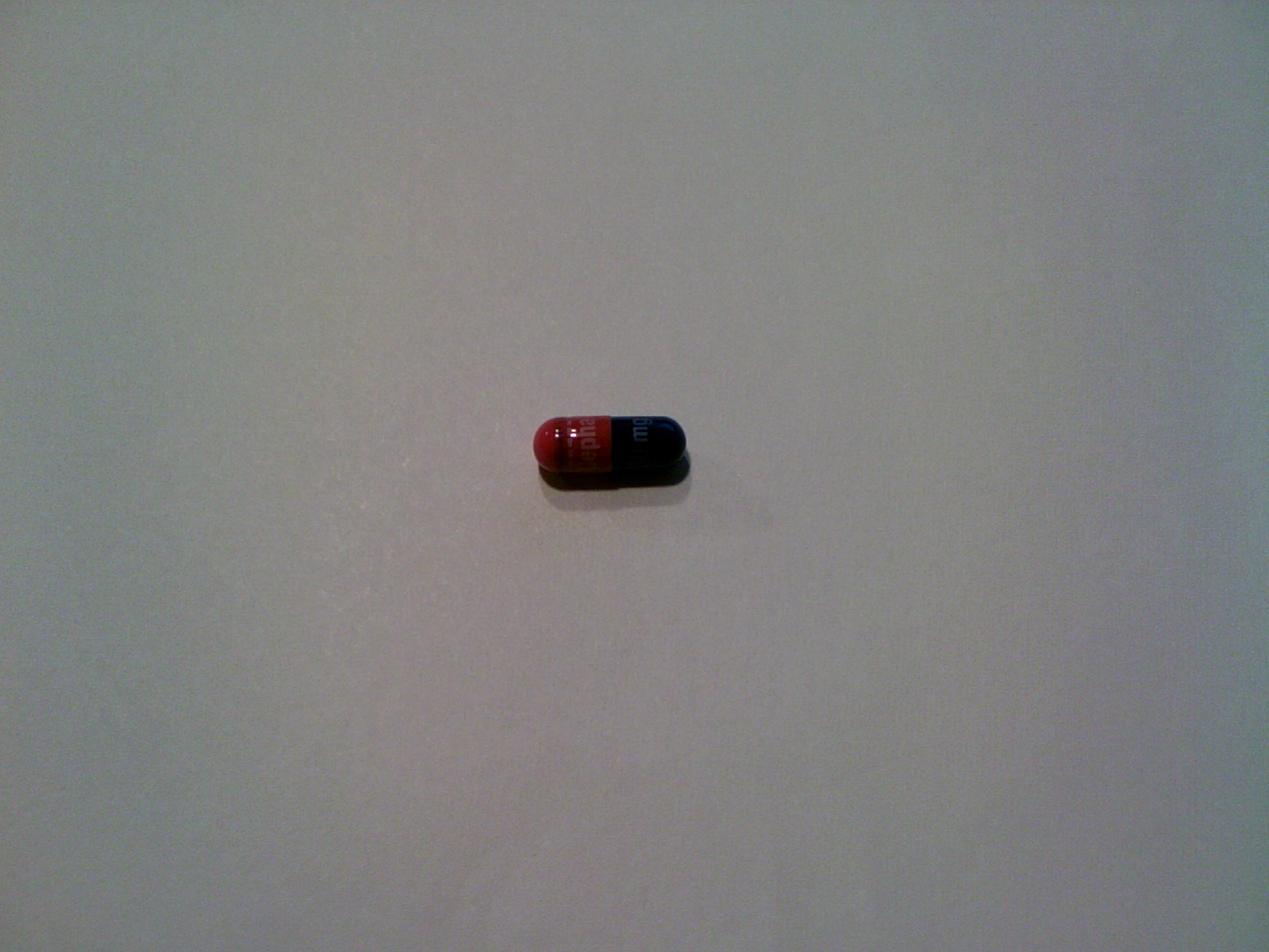Pill: (522, 402, 703, 497)
